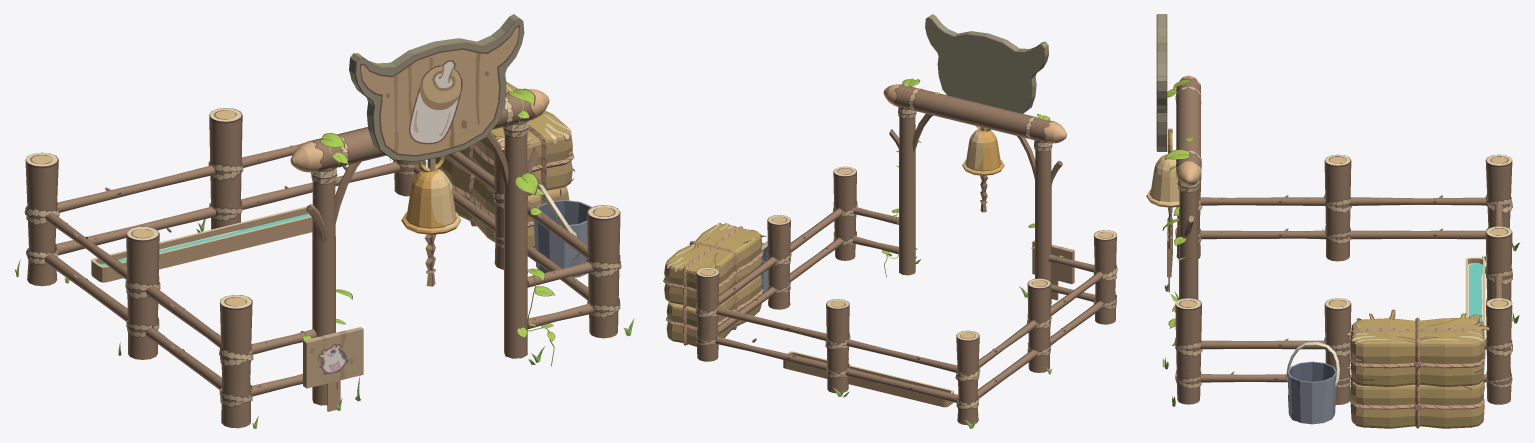
Rendered from Mesh_Home_RF_Ranch_Cow_SM.fbx.
3 views of the same model, side by side, from view 1: azimuth 30°, elevation 25°; view 2: azimuth 150°, elevation 25°; view 3: azimuth 270°, elevation 25° (orthographic). The views are drawn at different scales.
Parts seen in each view (by area): view 1: Mesh_Home_RF_Ranch_Cow; view 2: Mesh_Home_RF_Ranch_Cow; view 3: Mesh_Home_RF_Ranch_Cow.
Part boxes in pixels (left/top/right/bottom): Mesh_Home_RF_Ranch_Cow: left=14, top=14, right=634, bottom=428; Mesh_Home_RF_Ranch_Cow: left=663, top=14, right=1117, bottom=428; Mesh_Home_RF_Ranch_Cow: left=1146, top=14, right=1519, bottom=428.
Bounding box in the file's own units: 266 × 202 × 230.
1 material, 1 textured.
